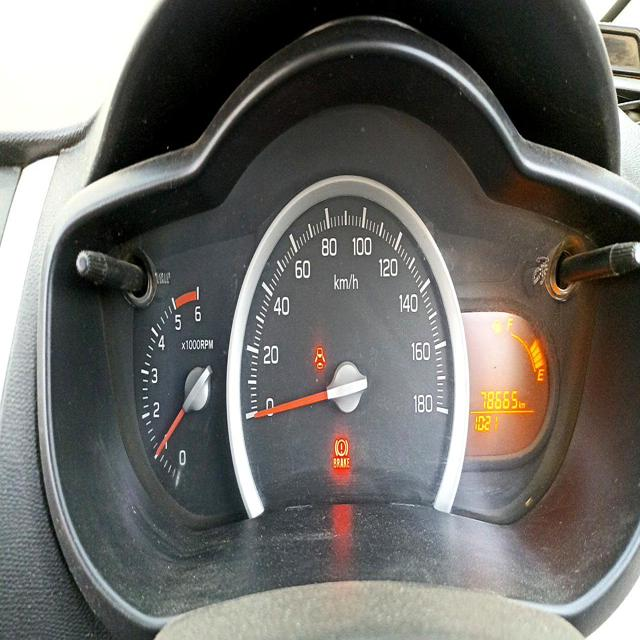odometer: (480, 387, 519, 412)
